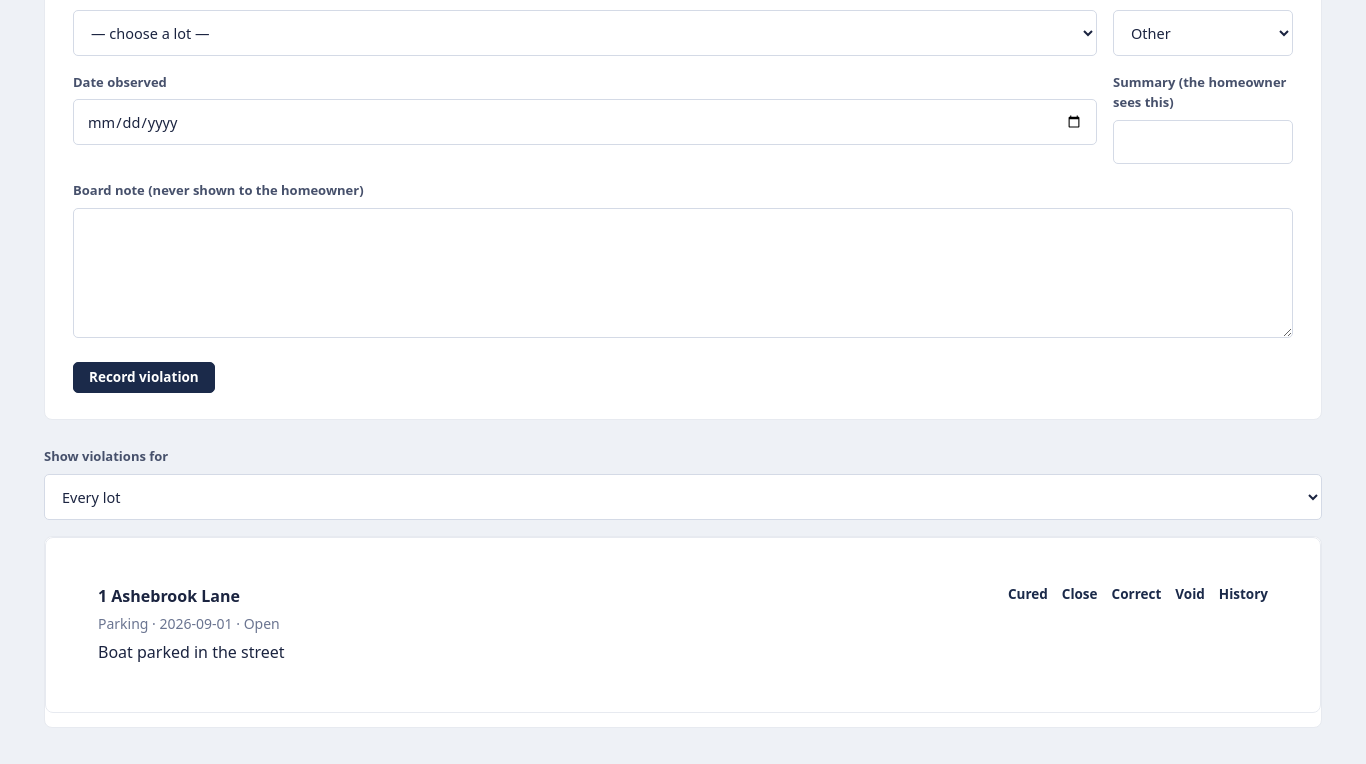
Test: correcting a violation › does not let the lot be changed while correcting
(page scrolled)
What coordinates should you click on to do the following:
click the button with aria-label "Correct violation"
I would click on:
 (1136, 595)
Its box is [1112,584,1161,605].
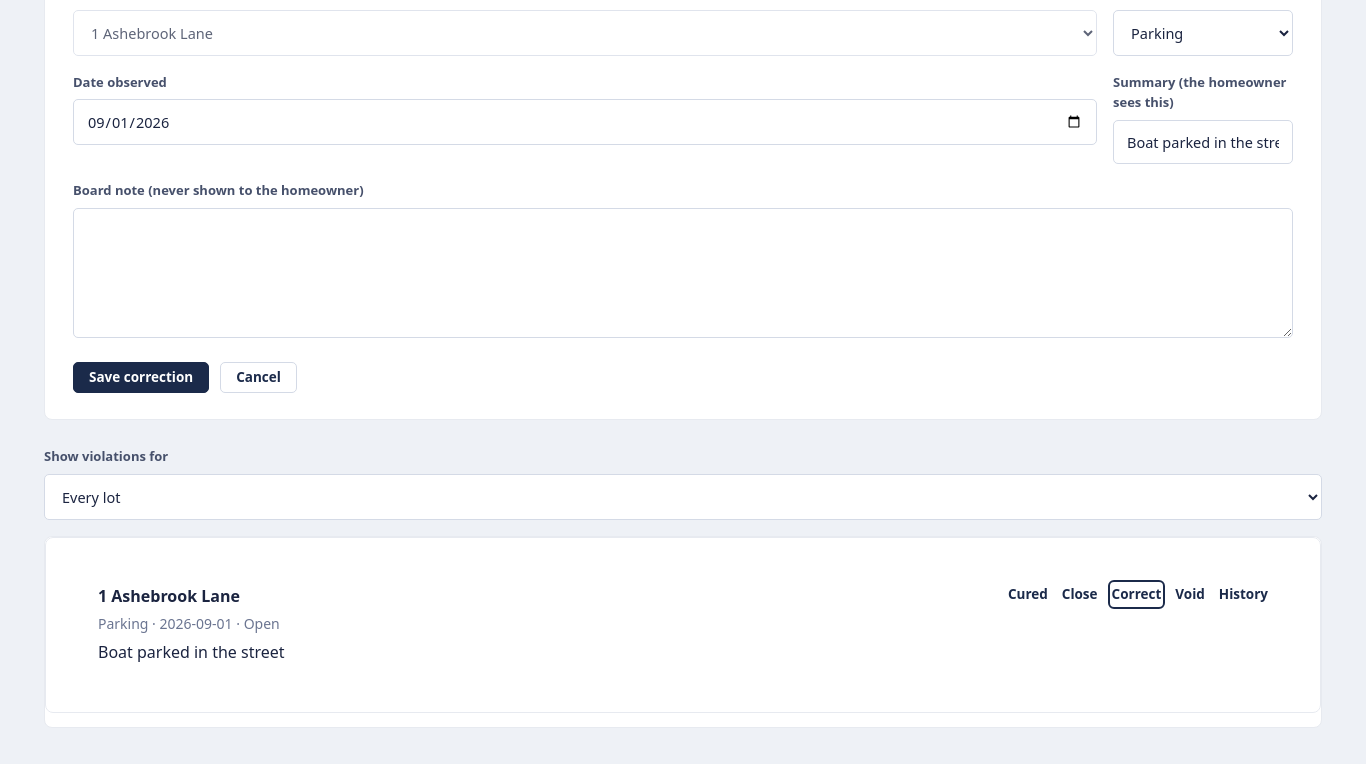
Now the dropdown labelled "Lot" is disabled, box [73,10,1097,56]
